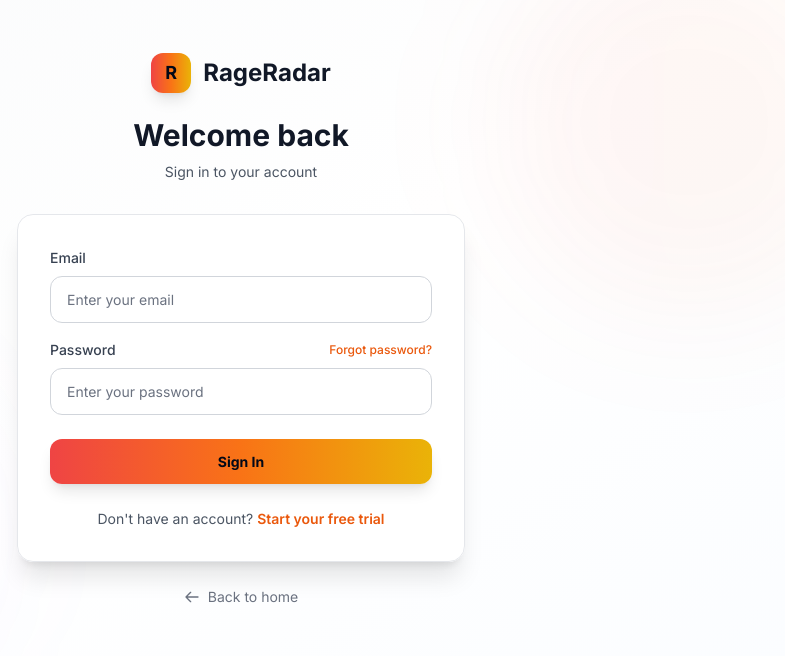
Test: Auth Component Tests › displays user-friendly error message on login rejection
In the field labelled "Email": (241, 300) [50, 276, 432, 323], type "bad@company.com"
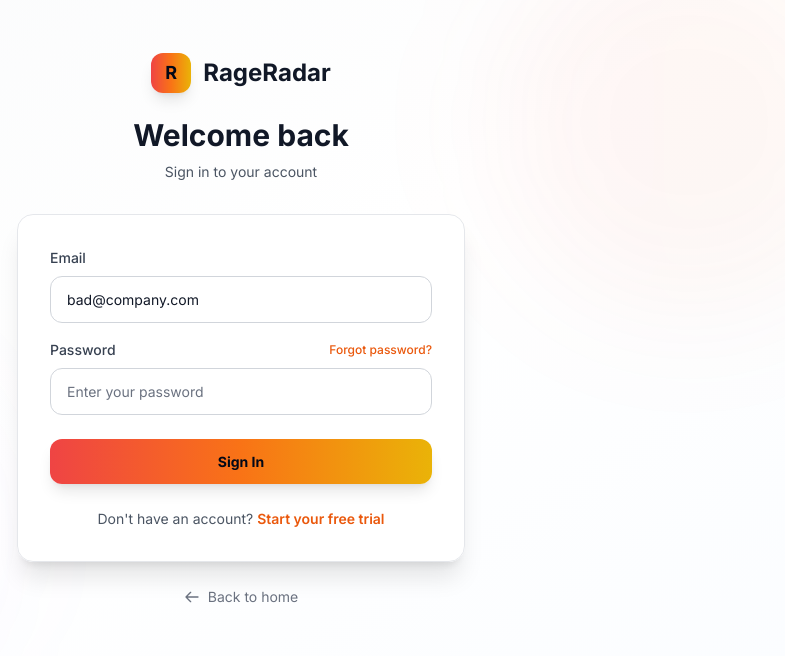
In the password field labelled "Password": (241, 392) [50, 368, 432, 415], type "wrongpass"
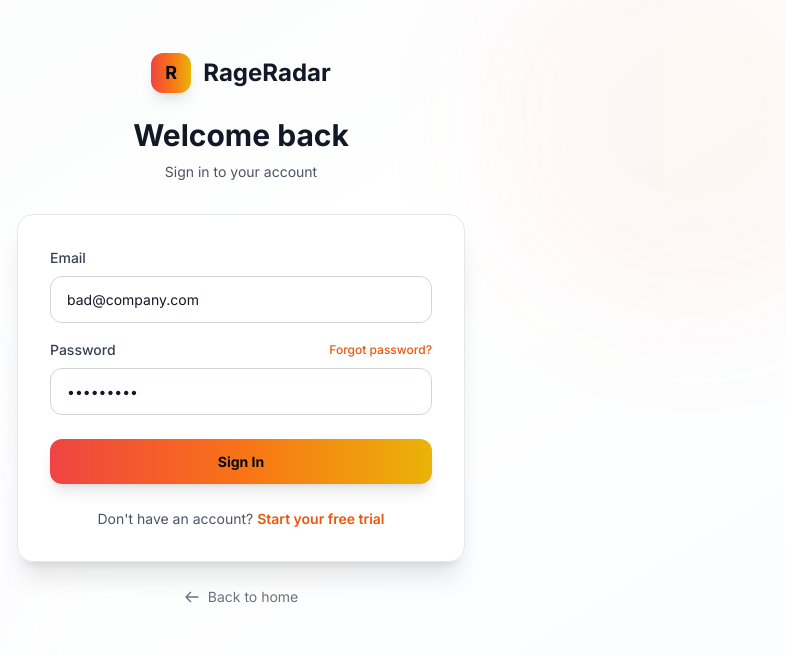
Click the button "Sign In": (241, 462) [50, 439, 432, 484]
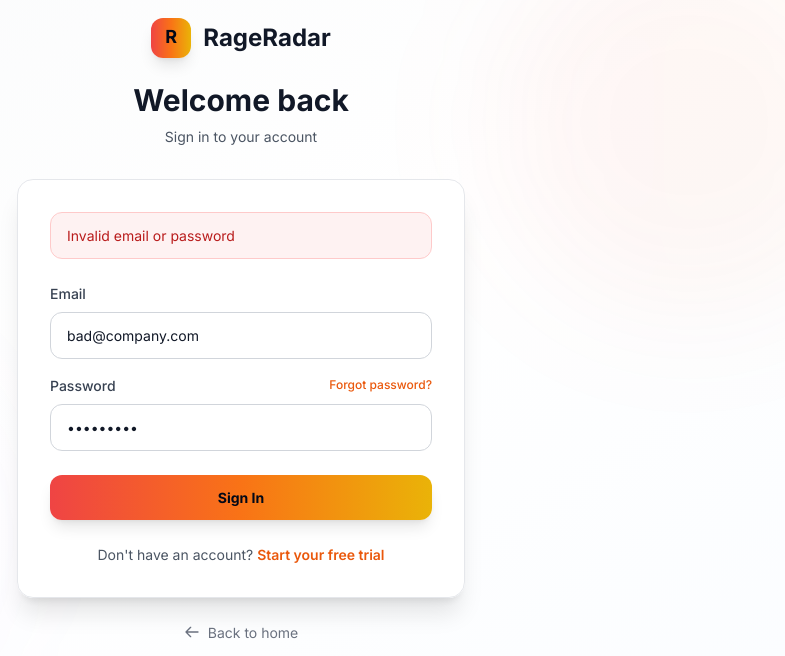
Check: the text "Invalid email or password" is shown, box [50, 212, 432, 258]
